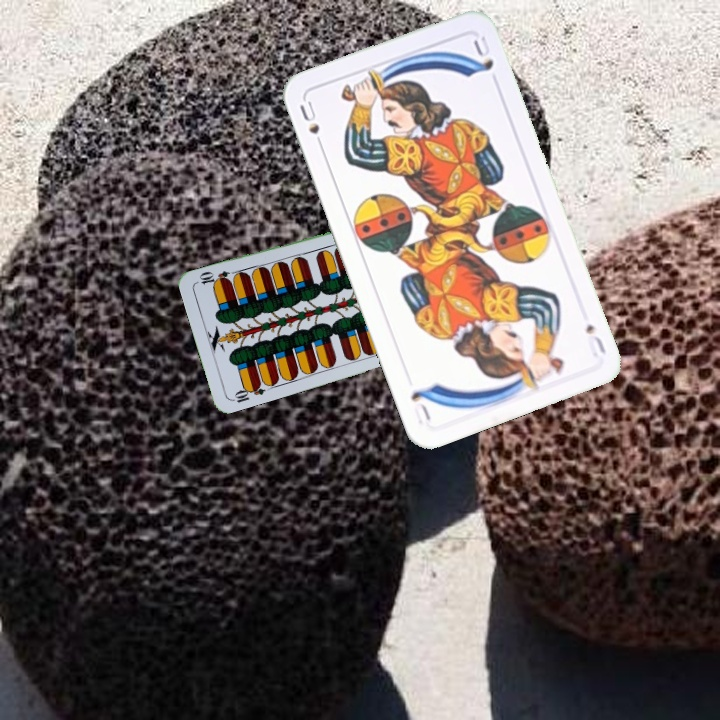E10: (228, 379, 267, 405)
SU: (295, 97, 327, 154), (581, 320, 609, 359)
